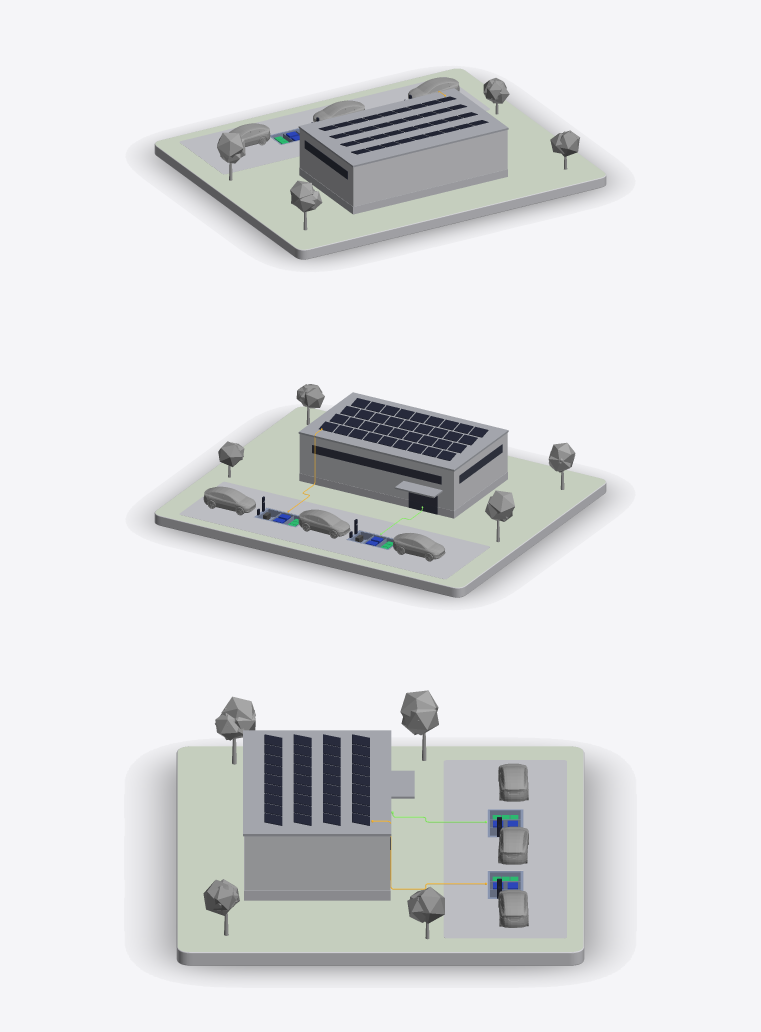
Rendered from sett-scroll-gemeente-sporthal.glb.
3 renders of one model, top to bottom at view 1: azimuth 30°, elevation 25°; view 2: azimuth 150°, elevation 25°; view 3: azimuth 270°, elevation 25°, orthographic. The views are drawn at different scales.
Parts seen in each view (by area): view 1: object 73, building, contact_shadow, object 74, car (×3), object 82; view 2: object 73, building, object 74, contact_shadow, car (×3), object 82; view 3: object 73, building, object 74, contact_shadow, car (×3), object 81, object 85, object 82, object 89.
Part boxes in pixels (x1,y1,x2,y2): object 73: [154, 68, 606, 259]; building: [298, 88, 508, 214]; contact_shadow: [150, 98, 610, 261]; object 74: [179, 77, 489, 174]; car (×3): [218, 77, 459, 146]; object 82: [217, 132, 243, 158]; object 73: [154, 406, 606, 597]; building: [298, 392, 508, 518]; object 74: [179, 481, 489, 579]; contact_shadow: [150, 421, 610, 599]; car (×3): [203, 486, 445, 561]; object 82: [489, 490, 514, 518]; object 73: [176, 746, 584, 965]; building: [243, 730, 414, 900]; object 74: [443, 760, 566, 938]; contact_shadow: [155, 760, 605, 974]; car (×3): [498, 763, 528, 927]; object 81: [405, 709, 438, 735]; object 85: [417, 886, 444, 923]; object 82: [400, 690, 438, 721]; object 89: [221, 696, 255, 720].
Size of the model in its own units: 4518 by 577 by 4518.
23 materials, 1 textured.
